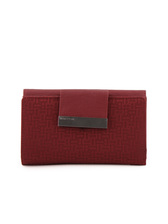other: (17, 84, 151, 170)
